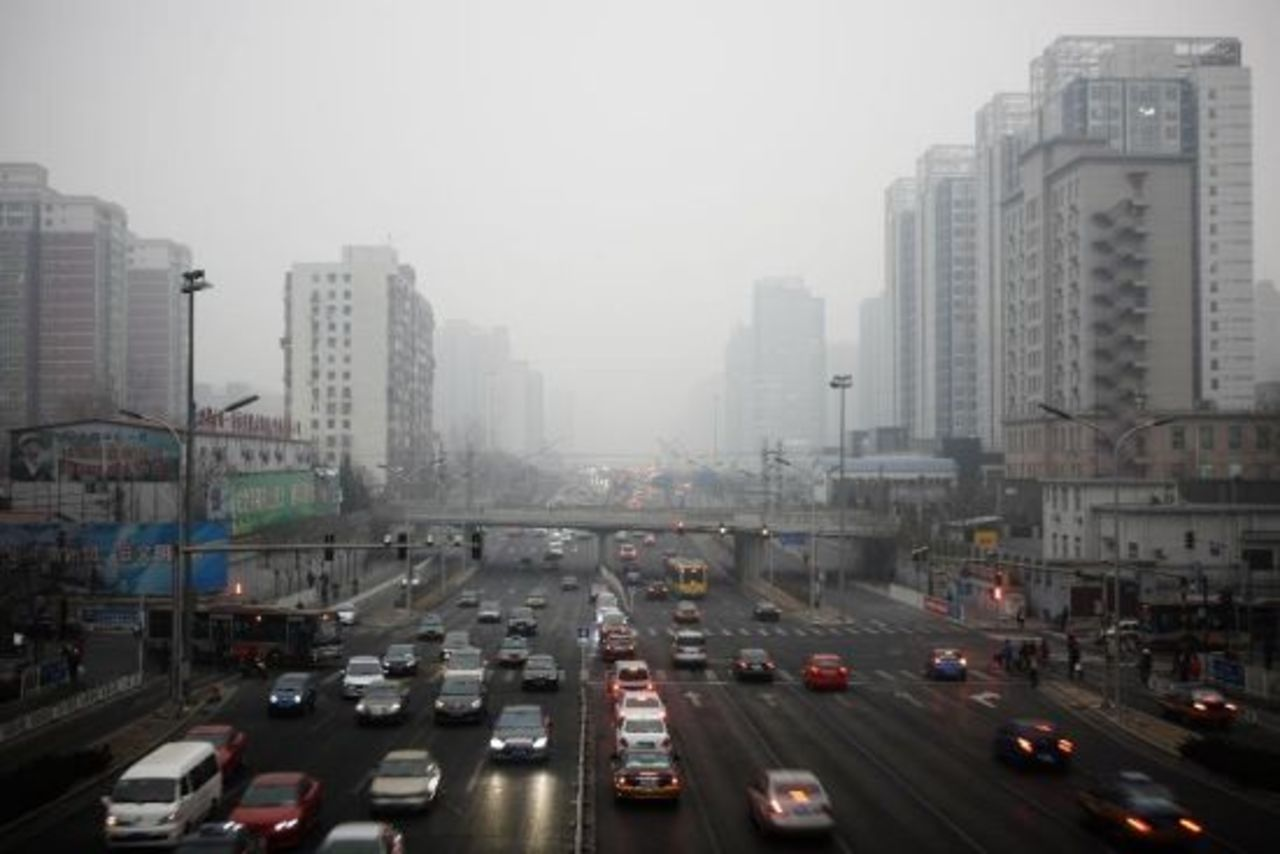bus: (151, 606, 341, 668), (668, 556, 709, 598)
car: (105, 737, 227, 846), (1073, 777, 1207, 852), (225, 771, 328, 851), (746, 767, 836, 839), (366, 748, 443, 819), (992, 716, 1077, 772), (487, 703, 552, 764), (1157, 684, 1241, 729), (613, 753, 683, 803), (300, 821, 404, 853), (265, 670, 317, 718), (188, 720, 246, 762), (354, 684, 408, 727), (434, 673, 483, 718), (801, 653, 852, 692), (617, 708, 665, 748), (607, 657, 652, 691), (343, 653, 378, 695), (669, 630, 708, 663), (521, 654, 561, 686), (738, 649, 772, 680), (506, 604, 537, 638), (928, 650, 967, 677), (386, 644, 417, 674), (496, 636, 527, 663), (439, 646, 481, 663), (617, 686, 652, 704), (417, 610, 437, 631)
